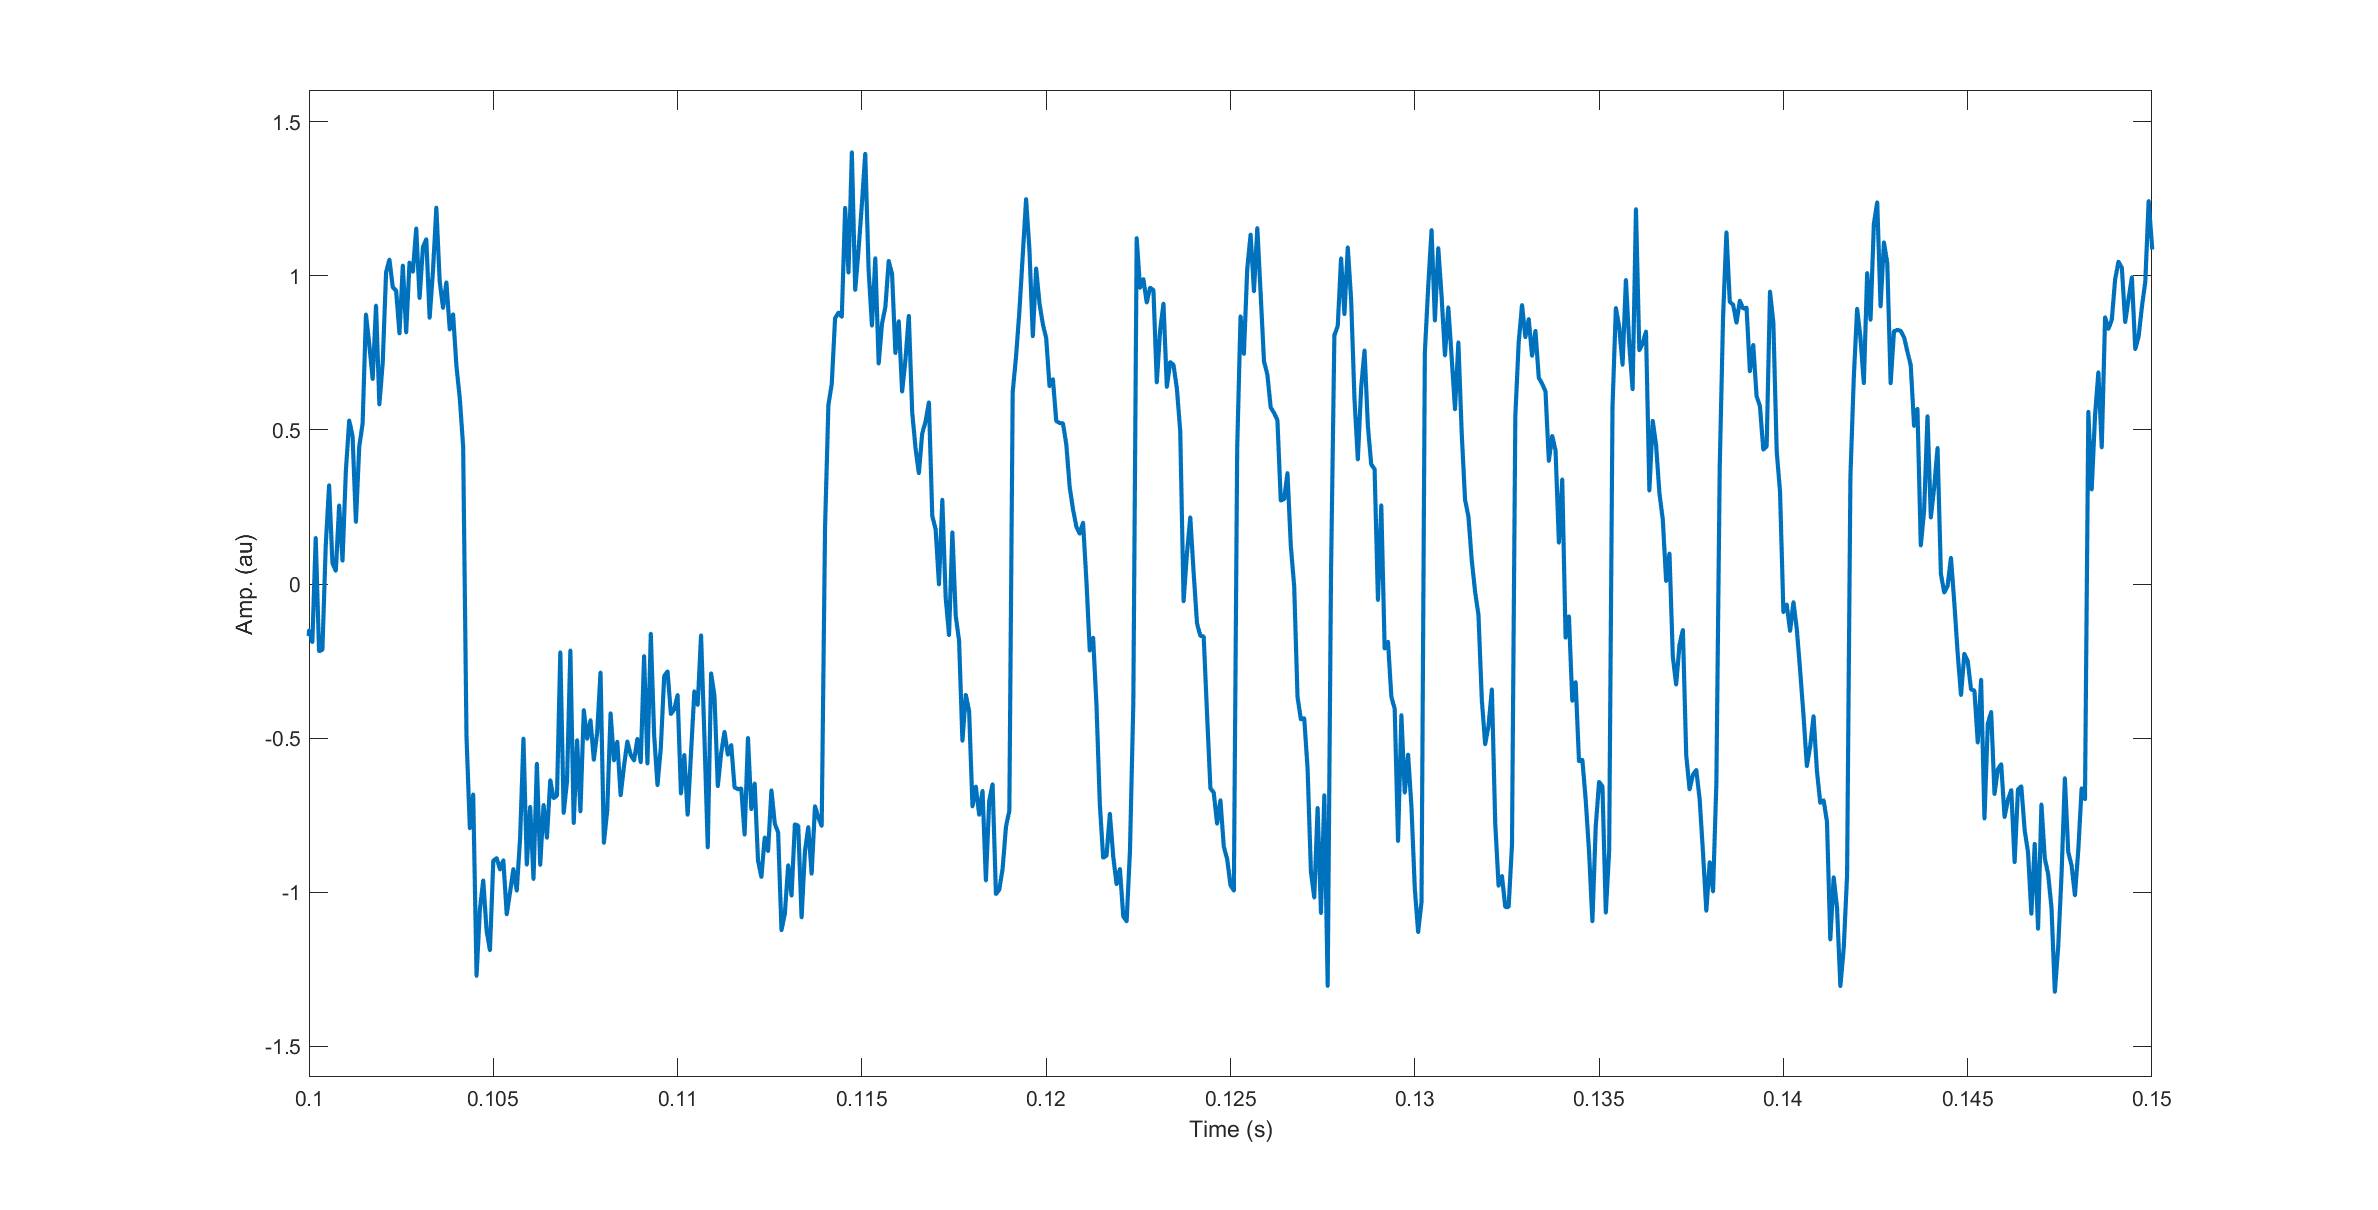negative_fringe: (1832, 187, 2035, 988), (813, 140, 991, 894), (1000, 187, 1114, 895), (1708, 225, 1824, 898), (1117, 225, 1221, 898), (1319, 235, 1409, 991), (1600, 204, 1697, 892), (1409, 221, 1500, 941), (1228, 211, 1315, 903), (1501, 262, 1593, 915)
positive_fringe: (341, 198, 488, 980)
